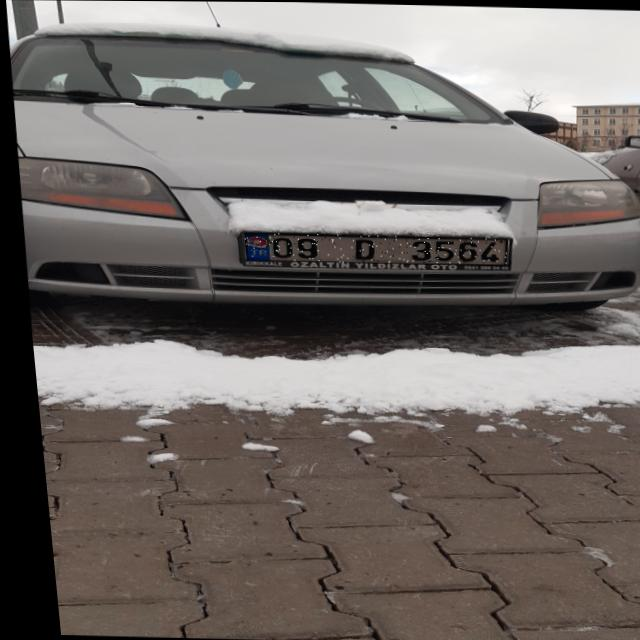license_plate: (239, 231, 504, 266)
